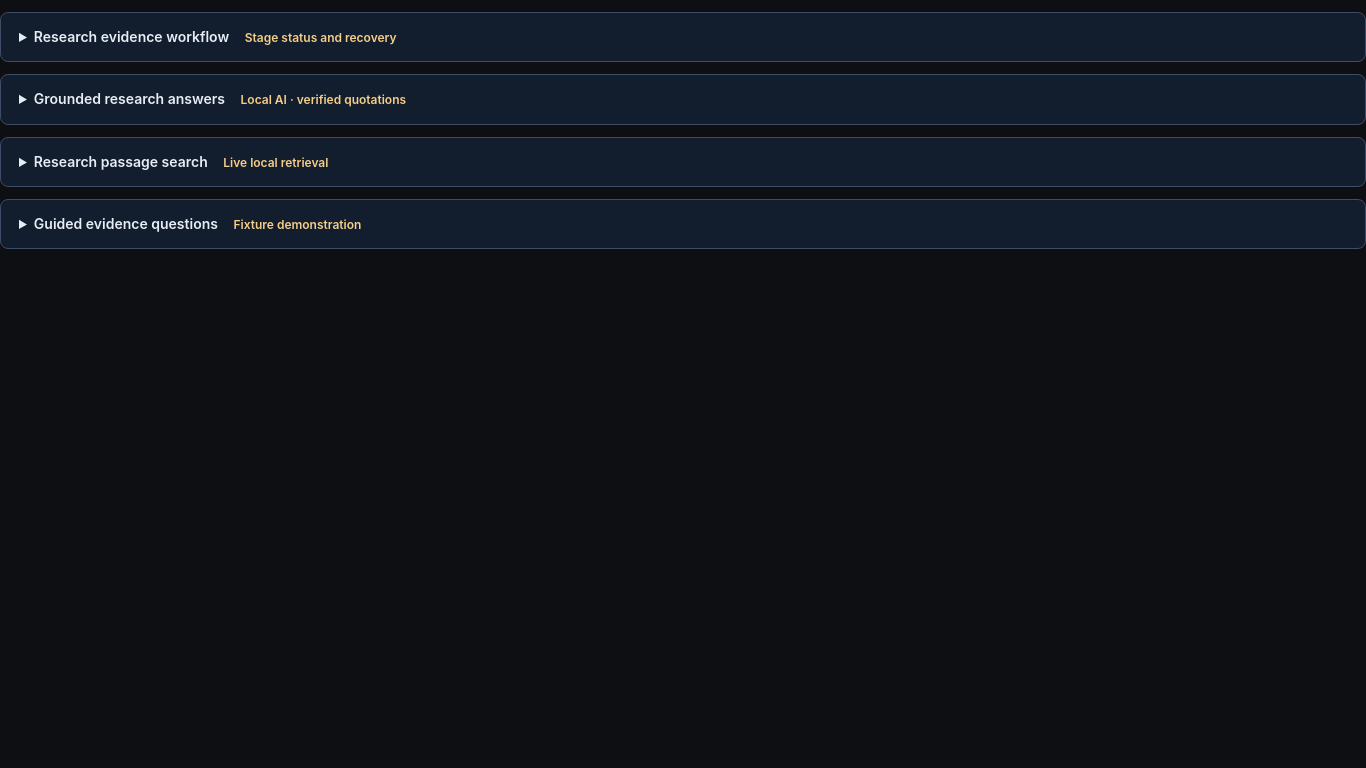
Scenario: keeps a failed save visibly unconfirmed and retries the identical request
Click the heading "Guided evidence questions" at (198, 223), box top-left (34, 215), bottom-right (361, 232)
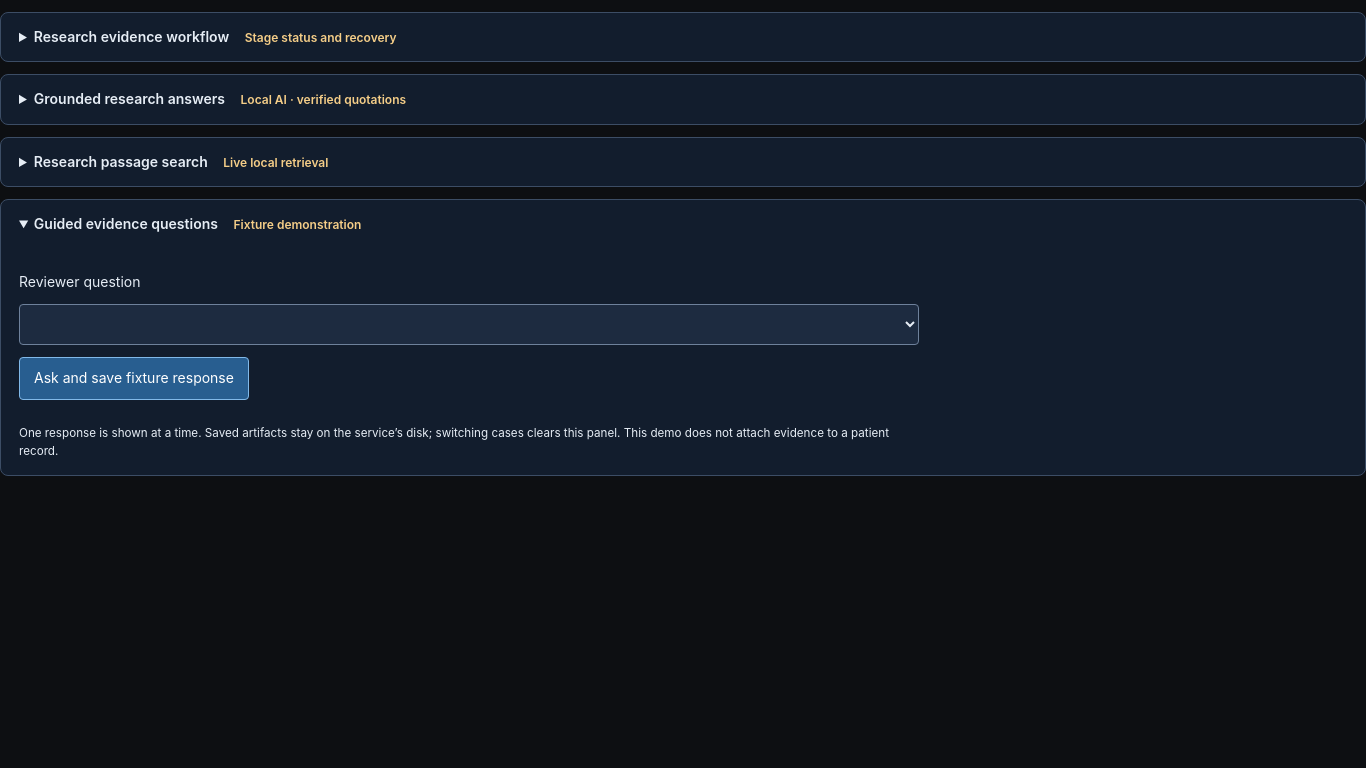
Click the button "Ask and save fixture response" at (134, 379), box top-left (19, 358), bottom-right (249, 400)
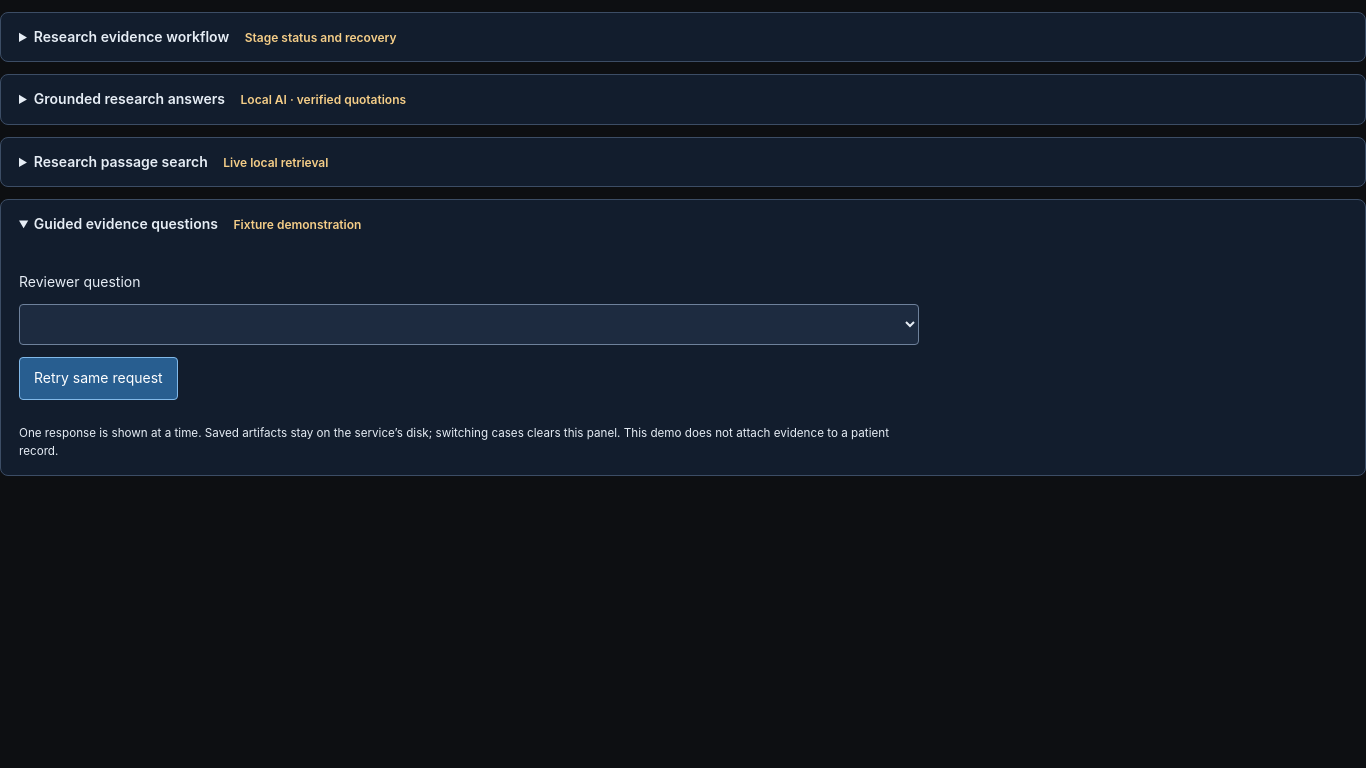
Click the button "Retry same request" at (98, 379), box top-left (19, 358), bottom-right (178, 400)
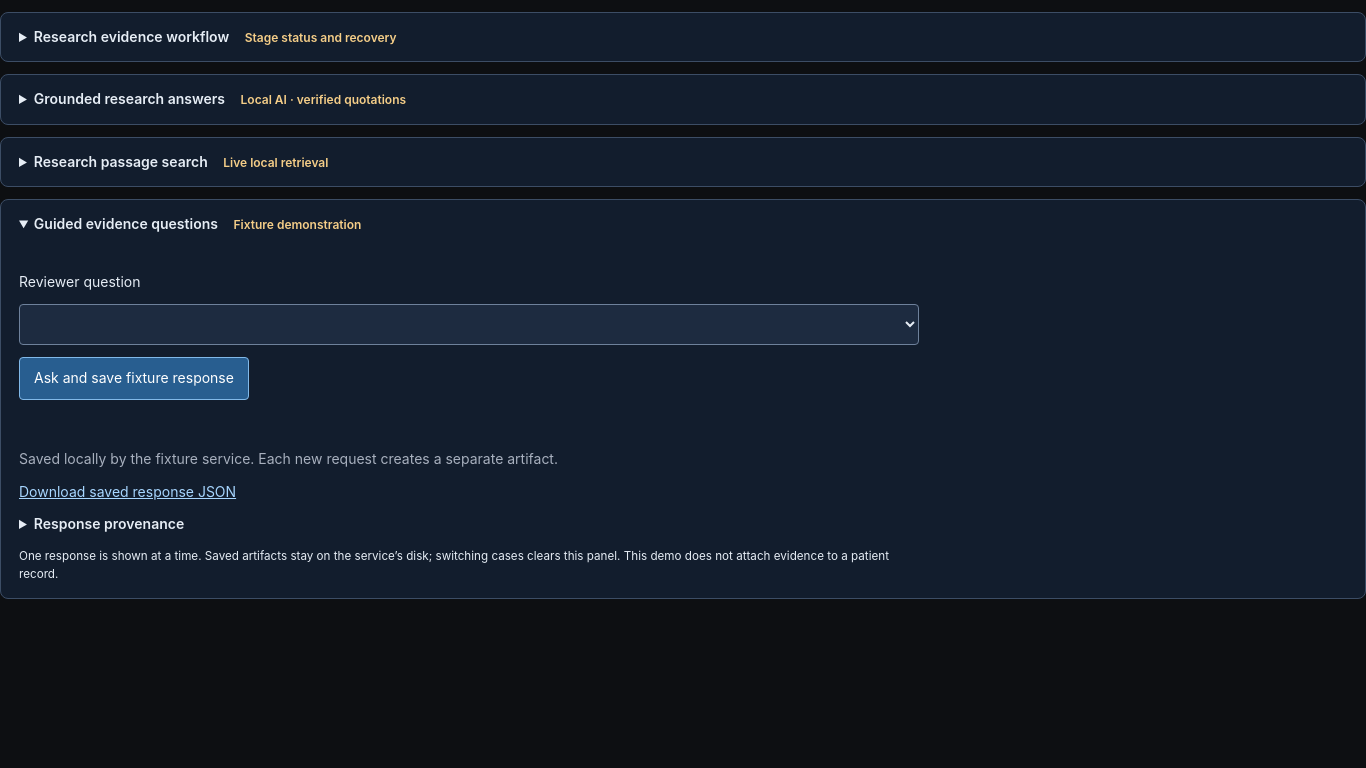
Expected: the element named "Saved fixture response" is shown, top-left (19, 450), bottom-right (558, 532)
